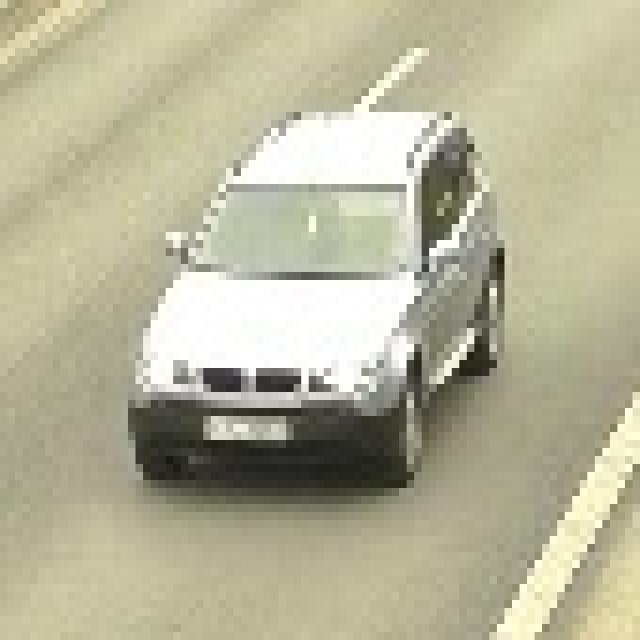SUV: (130, 112, 498, 477)
